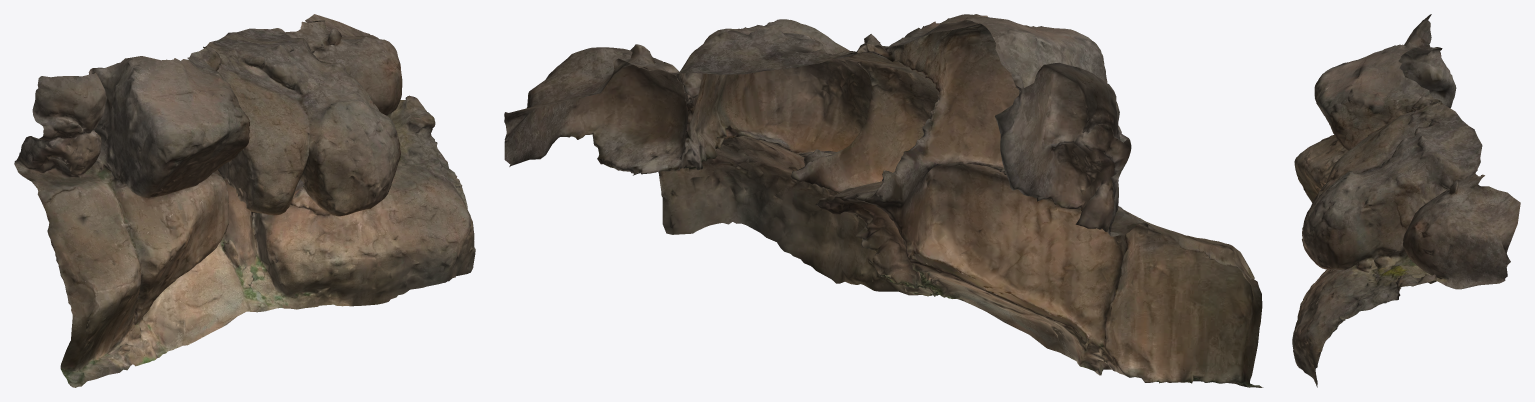
The model's file is namaqualand_cliff_01.glb.
The picture shows the model from 3 angles, left to right: view 1: azimuth 30°, elevation 25°; view 2: azimuth 150°, elevation 25°; view 3: azimuth 270°, elevation 25°; orthographic projection. The views are drawn at different scales.
Visible parts, largest first — view 1: drone_rock_01; view 2: drone_rock_01; view 3: drone_rock_01.
Part boxes in pixels (x1,y1,x2,y2): drone_rock_01: [14, 14, 475, 387]; drone_rock_01: [504, 14, 1263, 387]; drone_rock_01: [1292, 14, 1520, 387].
Bounding box in the file's own units: 8.28 × 4.96 × 4.39.
1 material, 1 textured.
